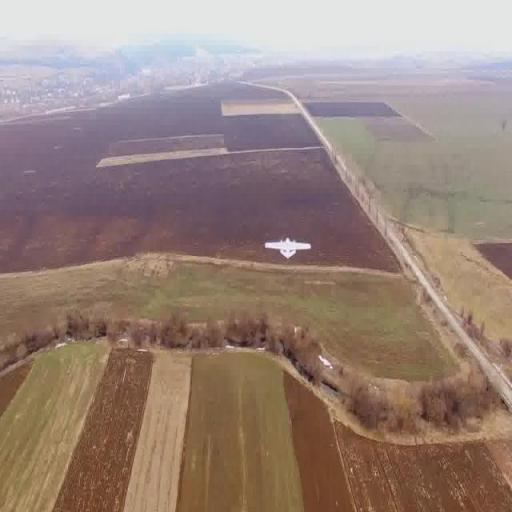uav: (265, 228, 316, 278)
